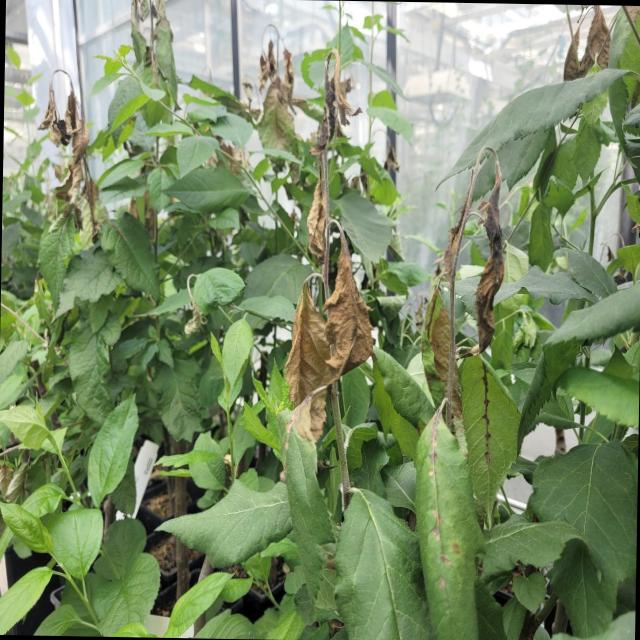-FireBlight-: (273, 47, 374, 445), (406, 132, 514, 432), (30, 60, 106, 234), (250, 24, 300, 164), (564, 5, 609, 90)
